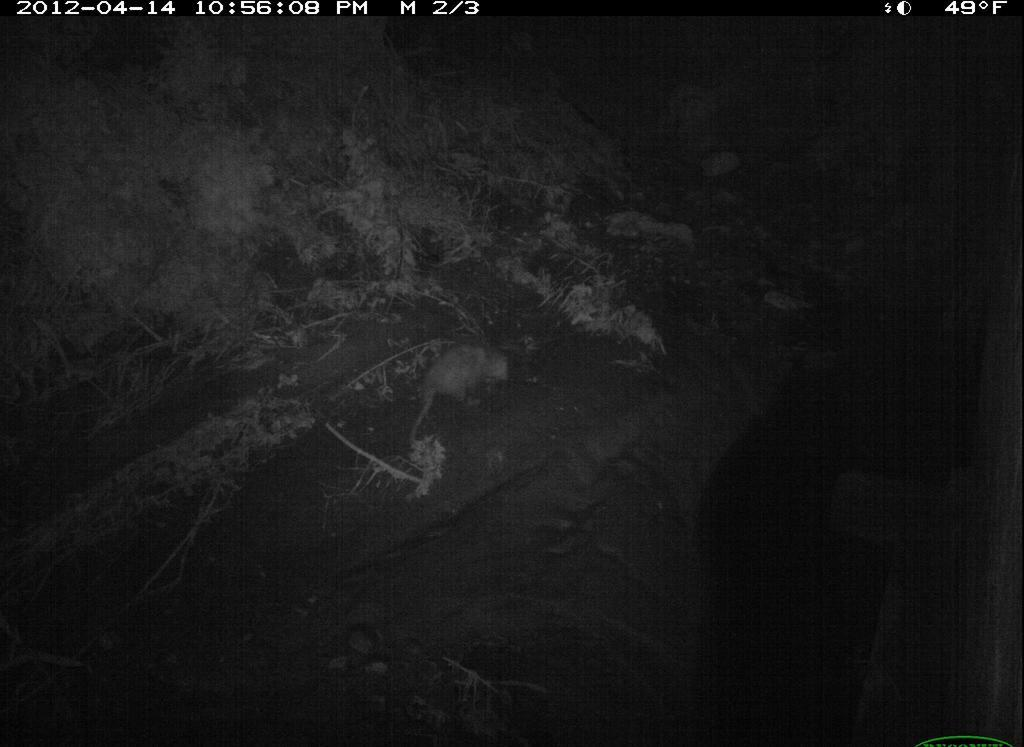opossum: (415, 333, 538, 427)
